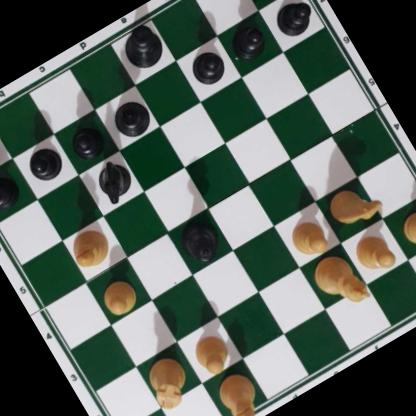black-bishop: (105, 94, 158, 146)
black-king: (113, 19, 171, 77)
black-knight: (88, 153, 140, 208)
black-pawn: (224, 18, 271, 65), (183, 43, 229, 89), (268, 0, 318, 42), (22, 141, 66, 187), (64, 119, 108, 163), (0, 169, 23, 214)
black-queen: (171, 214, 226, 270)
black-rook: (0, 117, 4, 178), (238, 0, 300, 0)
white-bishop: (210, 366, 270, 416), (64, 222, 117, 274)
white-king: (304, 245, 372, 318)
white-knight: (321, 175, 387, 237)
white-pawn: (348, 227, 400, 280), (187, 328, 237, 380), (284, 213, 334, 264), (94, 273, 144, 323), (396, 203, 416, 253)
white-rook: (136, 350, 199, 415)
